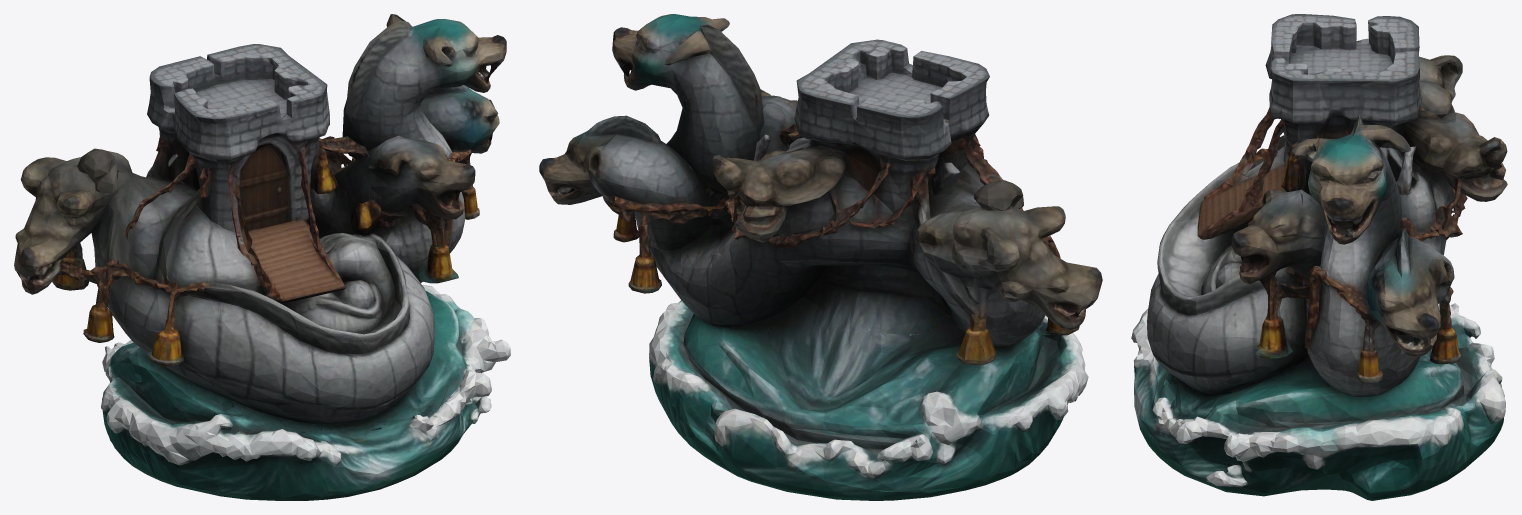
Rendered from brinegrave__scyllaWarden.glb.
3 views of the same model, side by side, from view 1: azimuth 30°, elevation 25°; view 2: azimuth 150°, elevation 25°; view 3: azimuth 270°, elevation 25° (orthographic). The views are drawn at different scales.
Visible parts, largest first — view 1: world; view 2: world; view 3: world.
Part boxes in pixels (x1,y1,x2,y2): world: (14, 14, 510, 500); world: (539, 14, 1102, 500); world: (1131, 14, 1507, 500).
Bounding box in the file's own units: 0.9996 × 0.6954 × 0.6272.
1 material, 1 textured.
